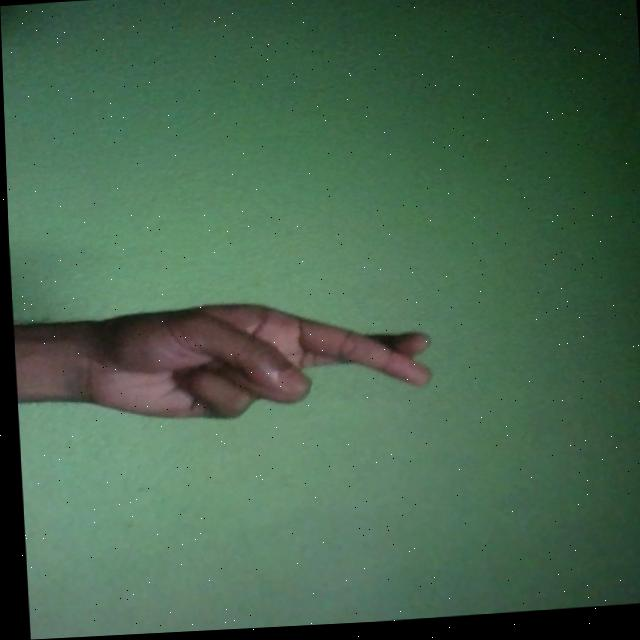Good Luck: (61, 294, 431, 431)
